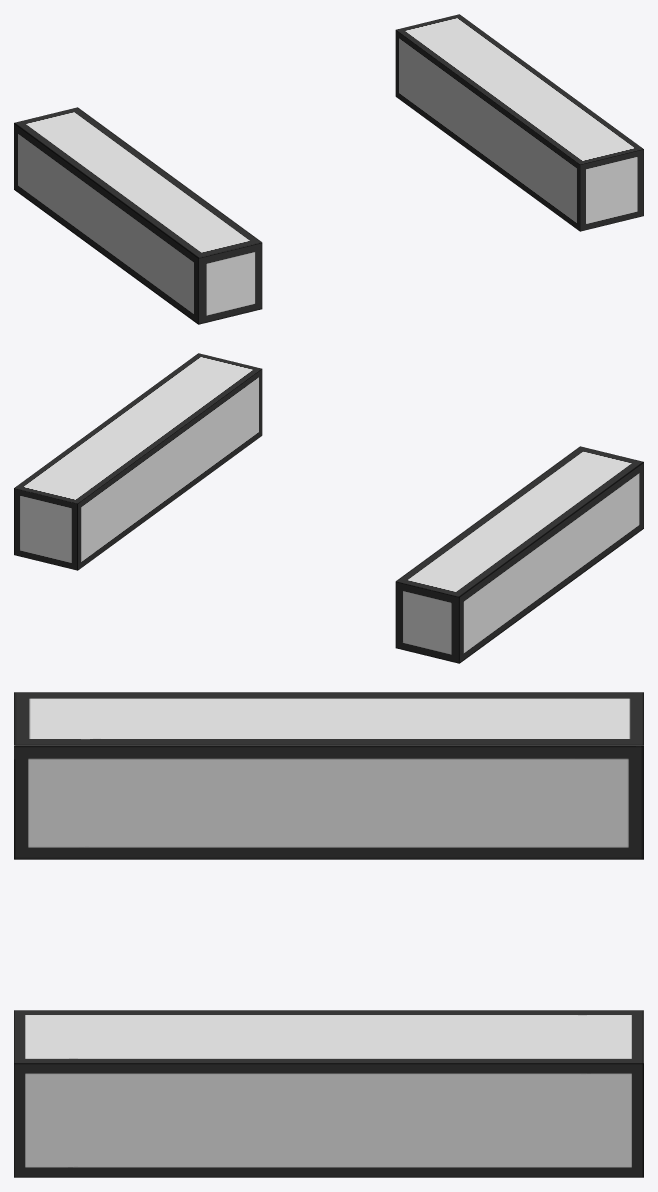
Rendered from player_hand.obj.
The picture shows the model from 3 angles, top to bottom: view 1: azimuth 30°, elevation 25°; view 2: azimuth 150°, elevation 25°; view 3: azimuth 270°, elevation 25°; orthographic projection. The views are drawn at different scales.
Parts seen in each view (by area): view 1: 立方体.002; view 2: 立方体.002; view 3: 立方体.002.
Part boxes in pixels (bbox=[...]): 立方体.002: bbox=[14, 14, 643, 324]; 立方体.002: bbox=[14, 353, 643, 663]; 立方体.002: bbox=[14, 692, 643, 1177].
Bounding box in the file's own units: 1.39 × 0.2 × 1.
1 material, 1 textured.
